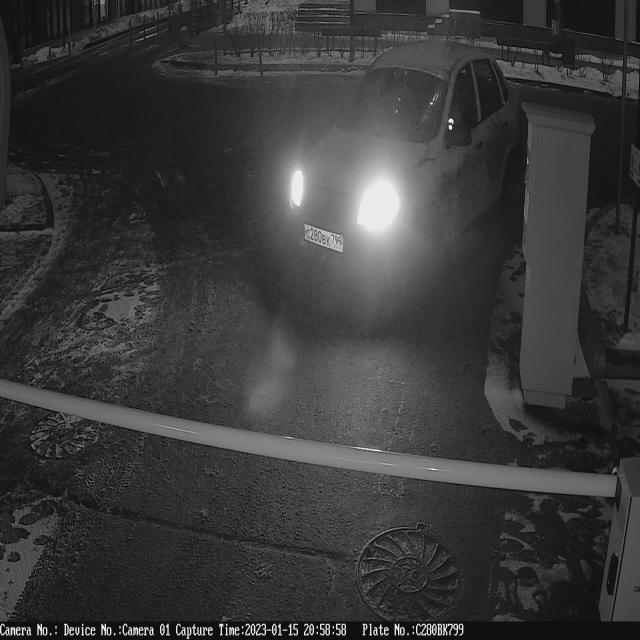car-plate-numbers: (302, 219, 348, 259)
